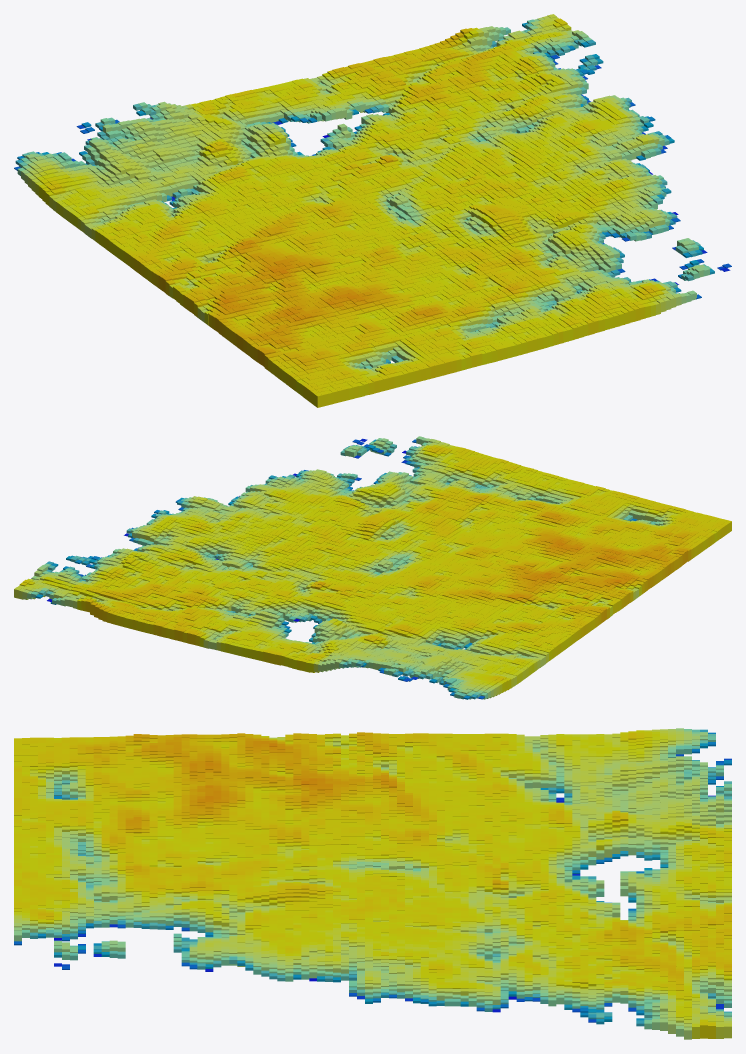
File: population.glb
3 views of the same model, one above another, from view 1: azimuth 30°, elevation 25°; view 2: azimuth 150°, elevation 25°; view 3: azimuth 270°, elevation 25° (orthographic). The views are drawn at different scales.
Visible parts, largest first — view 1: population; view 2: population; view 3: population.
Boxes of the visible parts, <box> form: population: <box>14,14,731,407</box>; population: <box>14,436,731,699</box>; population: <box>14,728,731,1039</box>.
Size of the model in its own units: 9030 by 597 by 8968.
